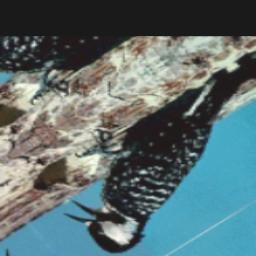Woodpecker: (22, 53, 256, 256)
